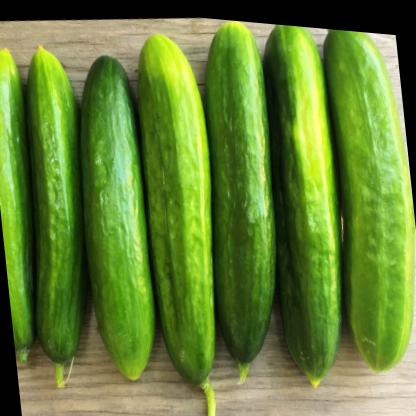--: (124, 10, 232, 400), (184, 13, 291, 373), (254, 18, 354, 383), (316, 22, 416, 379), (66, 38, 164, 390), (13, 31, 98, 394), (0, 34, 49, 374)
